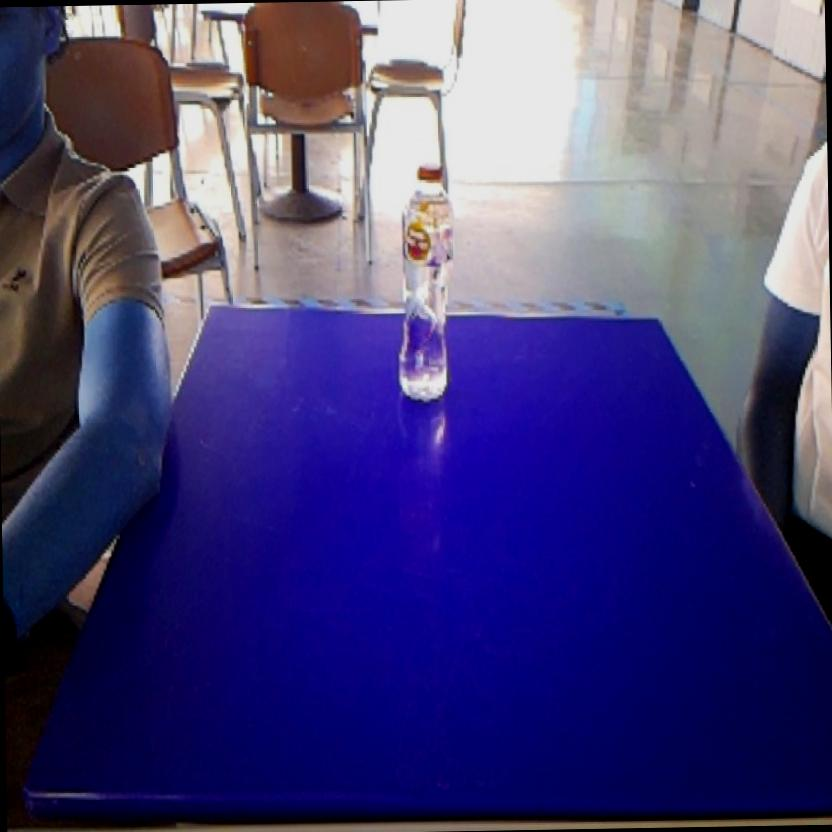good: (388, 152, 463, 416)
